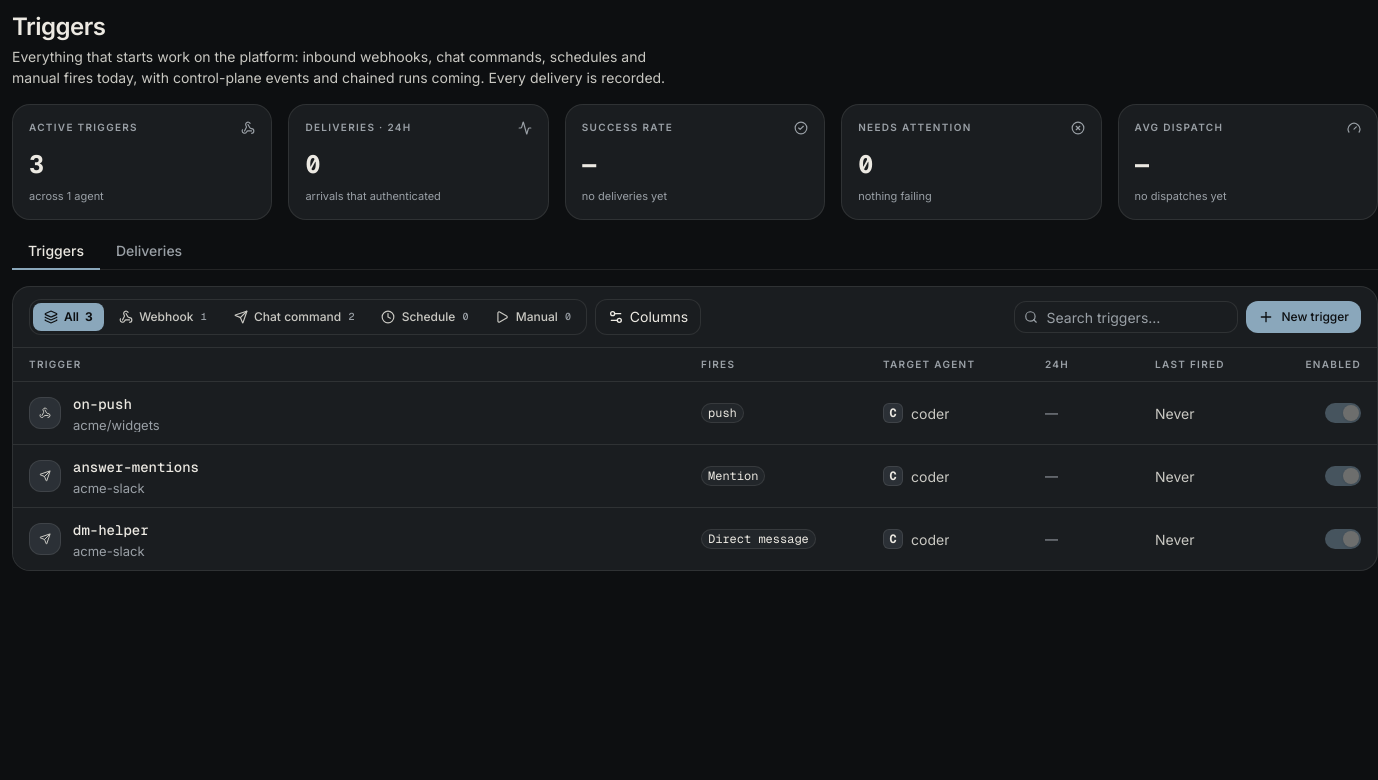
Test case: the kind filter › lists only chat commands under Chat command
The image size is (1378, 780).
Click the button "Chat command 2" at (294, 317), box [223,303,366,331]
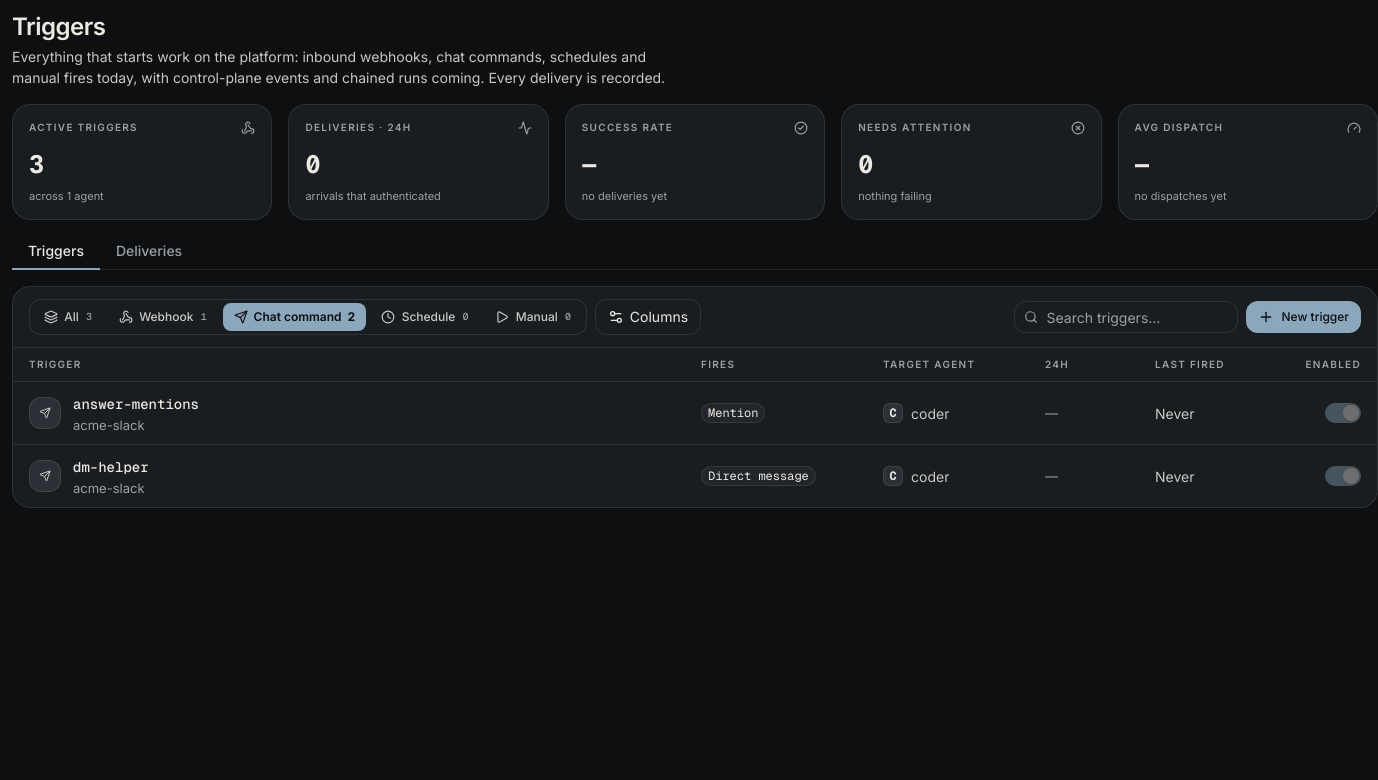
Expected: the text "answer-mentions" is shown, [73,394,199,415]
Result: the text "on-push" is gone
